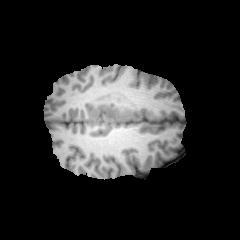glioma: (87, 91, 137, 123)
